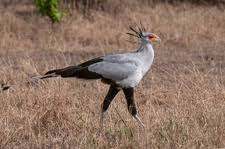Walking: (32, 14, 183, 139)
